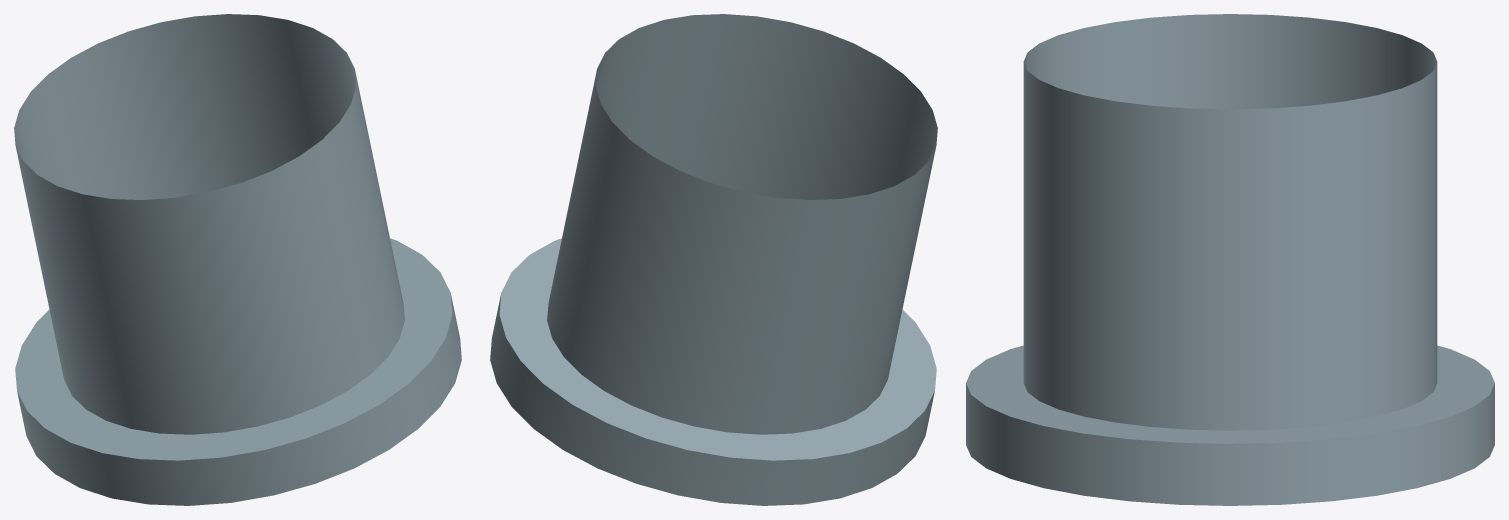
Rendered from Ujung.fbx.
3 renders of one model, left to right at view 1: azimuth 30°, elevation 25°; view 2: azimuth 150°, elevation 25°; view 3: azimuth 270°, elevation 25°, orthographic. The views are drawn at different scales.
Visible parts, largest first — view 1: Cylinder.007; view 2: Cylinder.007; view 3: Cylinder.007.
Boxes of the visible parts, x1,y1,x2,y2 form: Cylinder.007: (14, 14, 461, 505); Cylinder.007: (490, 14, 937, 505); Cylinder.007: (966, 14, 1494, 505).
Size of the model in its own units: 11.07 by 9.84 by 10.81.
1 material, 1 textured.
